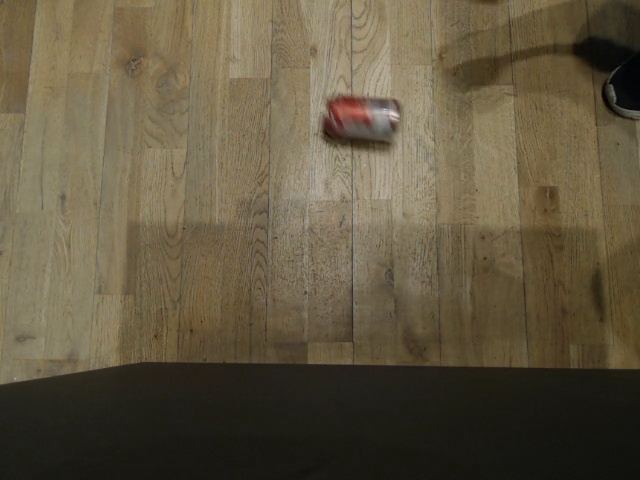cola: (319, 91, 405, 147)
